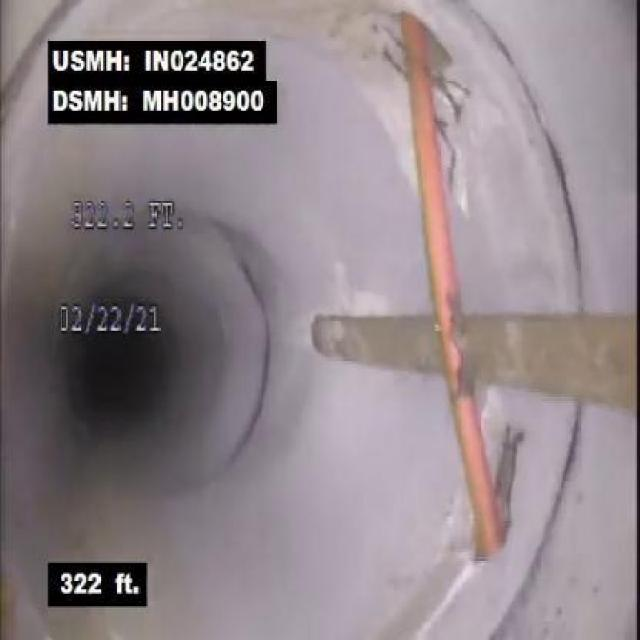Utility intrusion: (377, 6, 518, 565)
